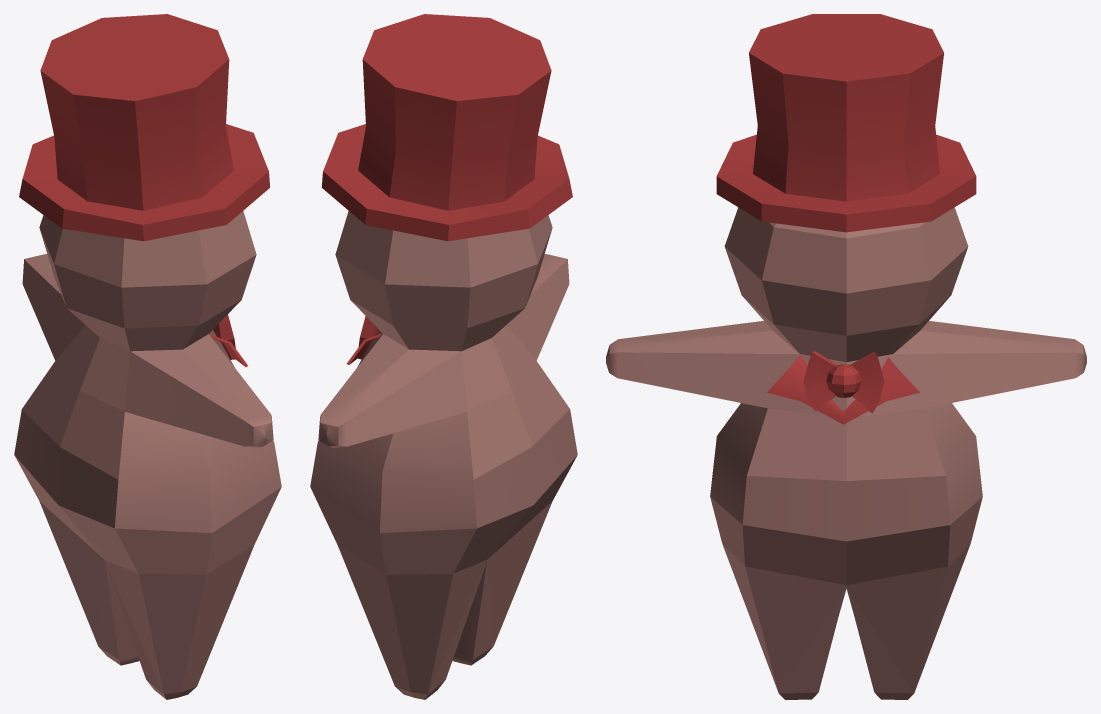
Rendered from Character_magic_001.fbx.fbx.
The picture shows the model from 3 angles, left to right: view 1: azimuth 30°, elevation 25°; view 2: azimuth 150°, elevation 25°; view 3: azimuth 270°, elevation 25°; orthographic projection. The views are drawn at different scales.
Visible parts, largest first — view 1: Character_magic; view 2: Character_magic; view 3: Character_magic.
Boxes of the visible parts, left/top/right/bottom form: Character_magic: left=14, top=14, right=281, bottom=699; Character_magic: left=310, top=14, right=577, bottom=699; Character_magic: left=606, top=14, right=1086, bottom=699.
Bounding box in the file's own units: 269 × 757 × 506.
